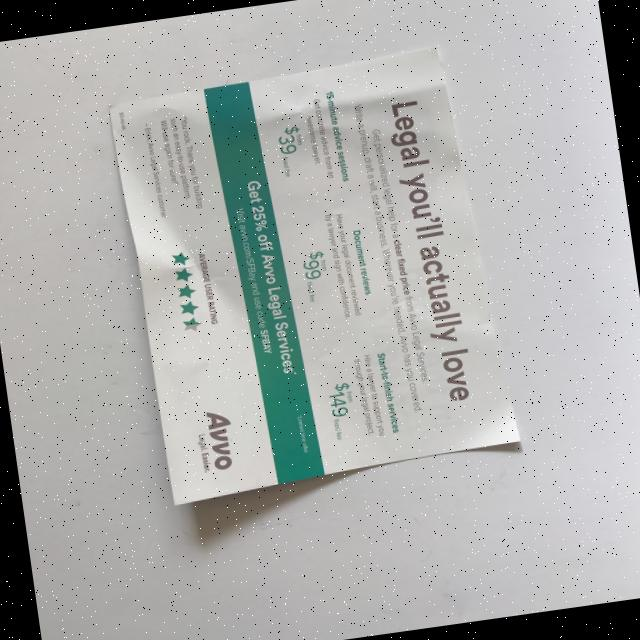paper: (106, 42, 523, 506)
